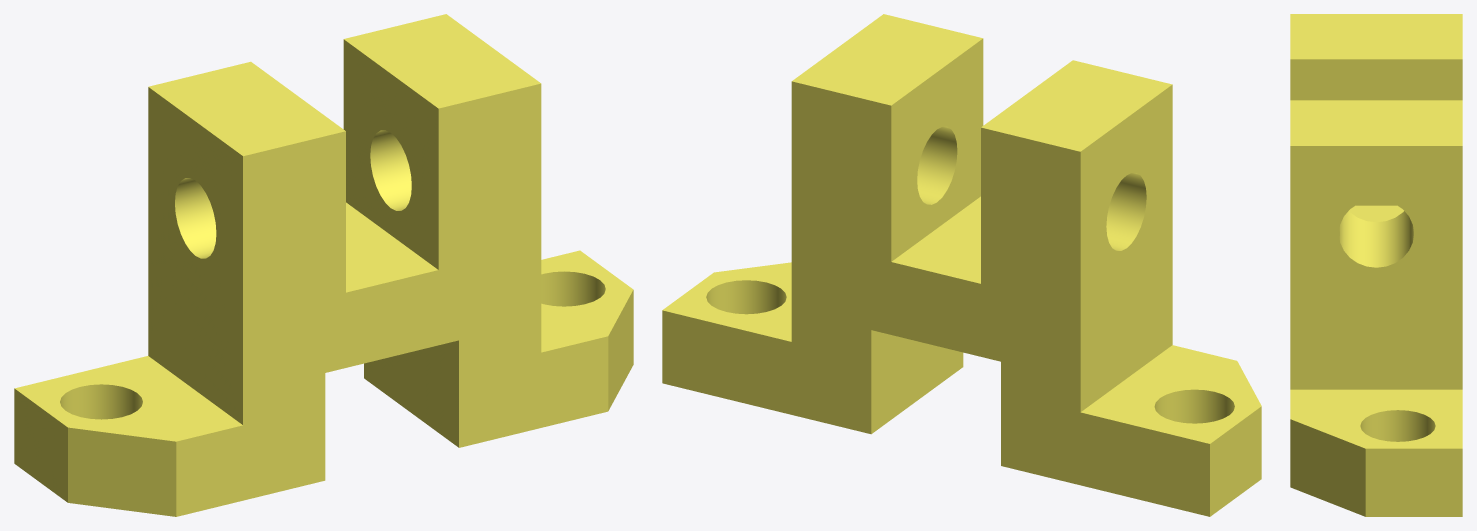
The picture shows the model from 3 angles, left to right: view 1: azimuth 30°, elevation 25°; view 2: azimuth 150°, elevation 25°; view 3: azimuth 270°, elevation 25°; orthographic projection. The views are drawn at different scales.
Parts seen in each view (by area): view 1: 850; view 2: 850; view 3: 850.
Boxes of the visible parts, left/top/right/bottom form: 850: left=14, top=14, right=633, bottom=516; 850: left=662, top=14, right=1261, bottom=516; 850: left=1290, top=14, right=1462, bottom=516.
Size of the model in its own units: 0.0825 by 0.048 by 0.024.
